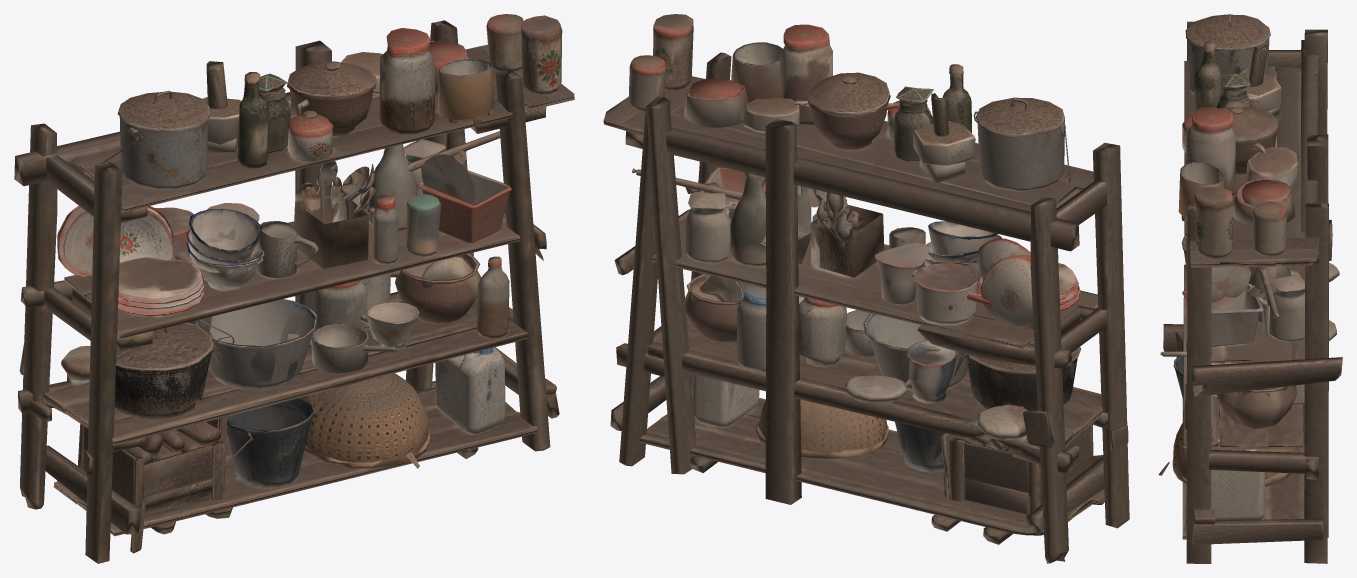
The model's file is Meshy_AI_Forgotten_Pantry_Shelf_20261028_texture.fbx.
3 views of the same model, side by side, from view 1: azimuth 30°, elevation 25°; view 2: azimuth 150°, elevation 25°; view 3: azimuth 270°, elevation 25° (orthographic). The views are drawn at different scales.
Parts seen in each view (by area): view 1: Mesh_0; view 2: Mesh_0; view 3: Mesh_0.
Part boxes in pixels (left/top/right/bottom): Mesh_0: left=14, top=14, right=574, bottom=563; Mesh_0: left=603, top=14, right=1129, bottom=563; Mesh_0: left=1158, top=14, right=1342, bottom=563.
Size of the model in its own units: 95.21 by 81.4 by 34.03.
Materials: 1 (1 with a texture image).
